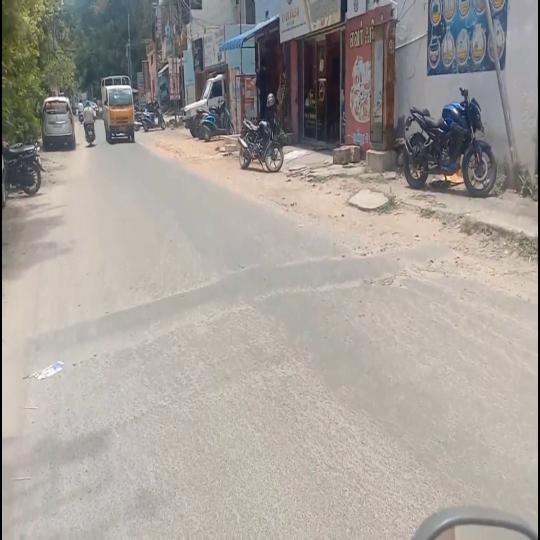Speed Bump: (12, 243, 434, 374)
